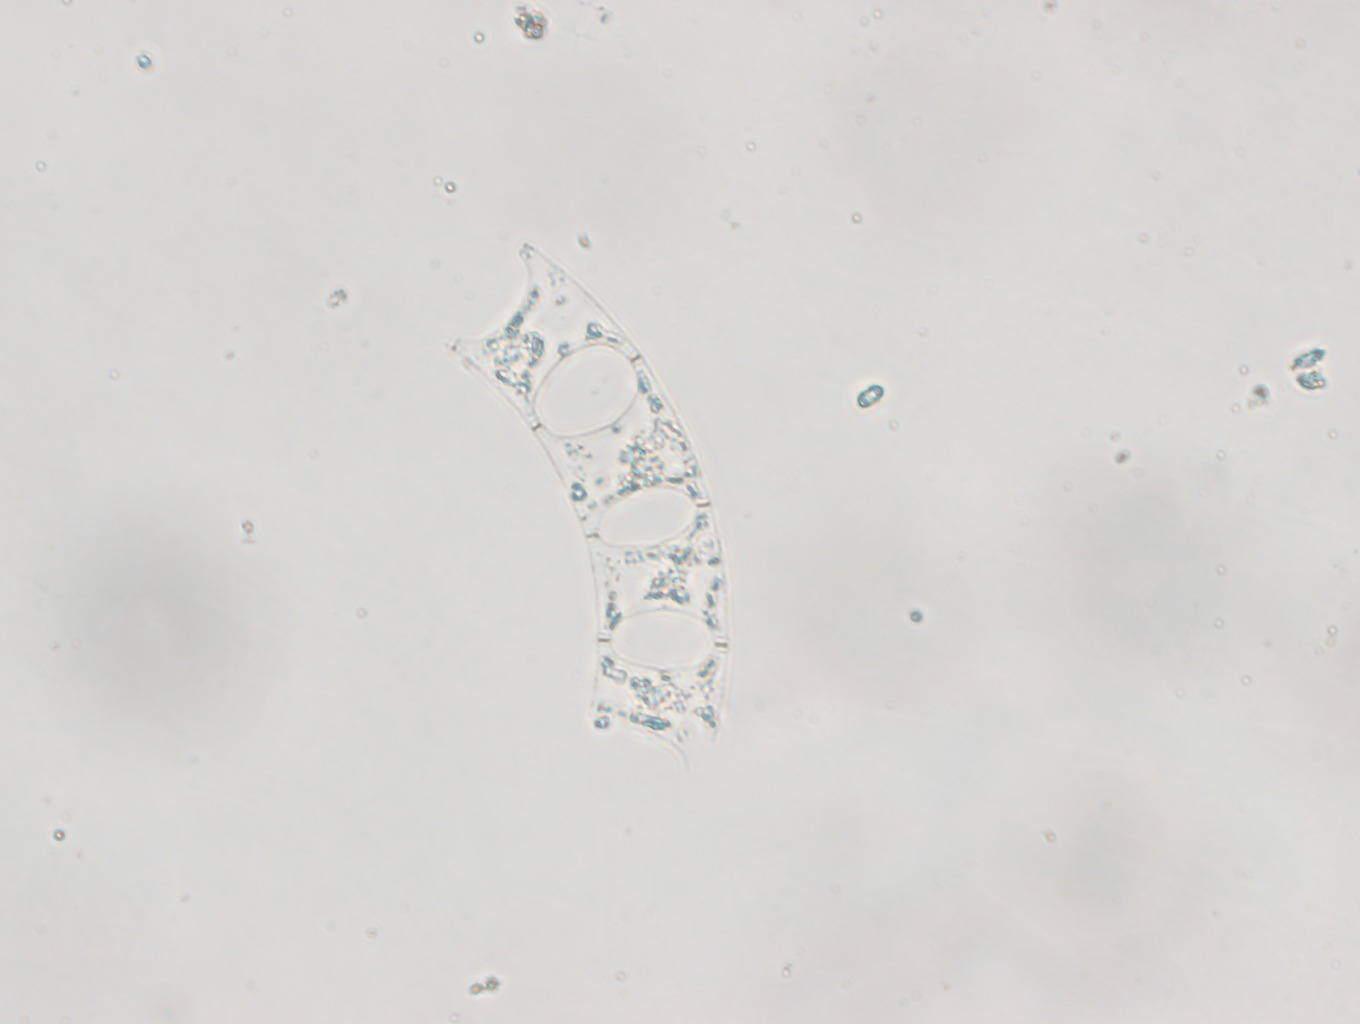eucampia: (449, 242, 735, 777)
